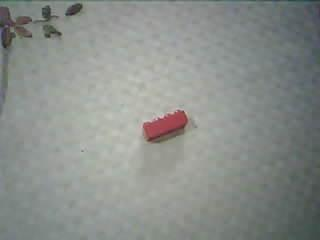lego: (141, 109, 187, 142)
